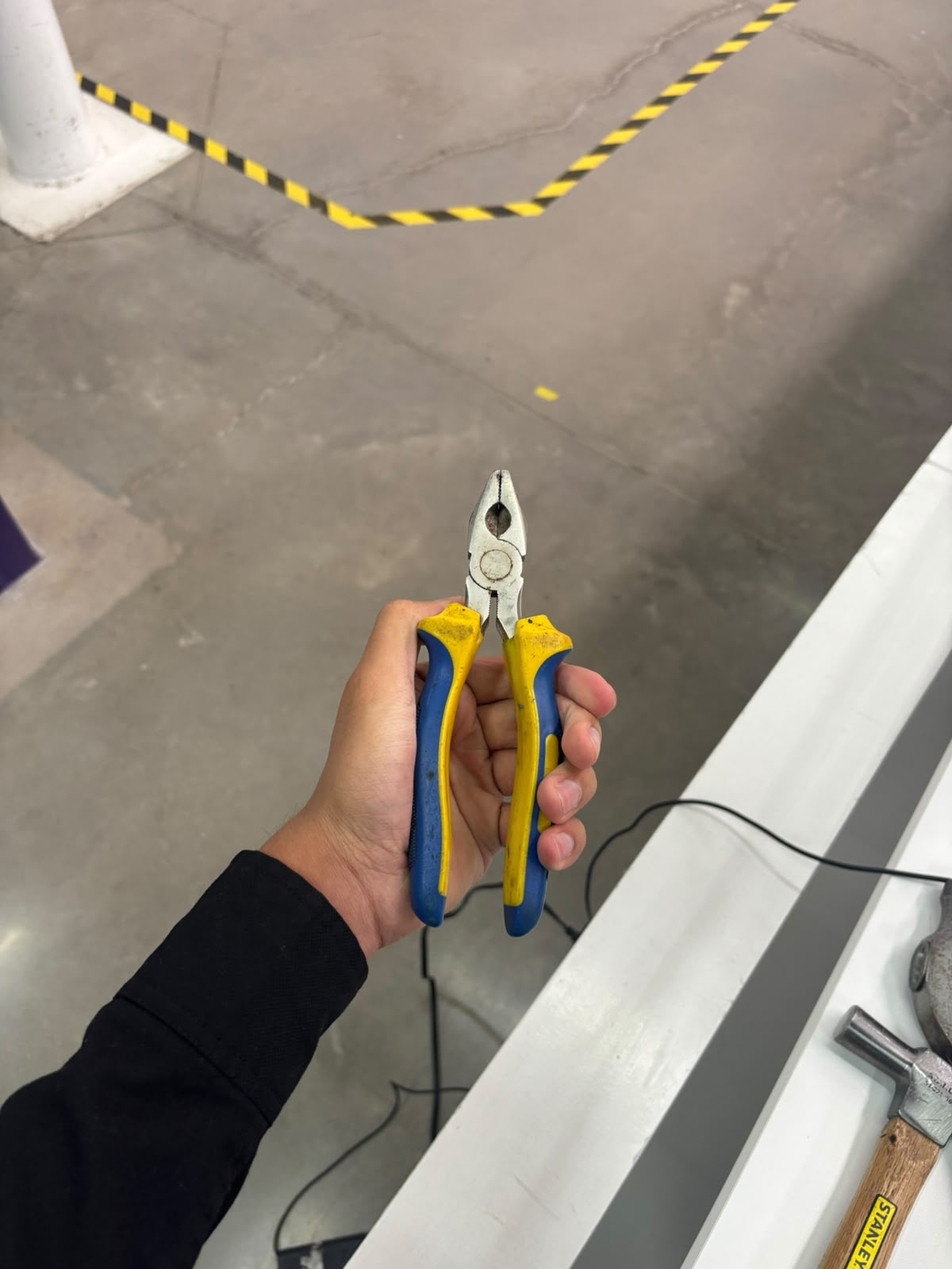hammer: (814, 1007, 952, 1269)
plier: (329, 449, 634, 942)
